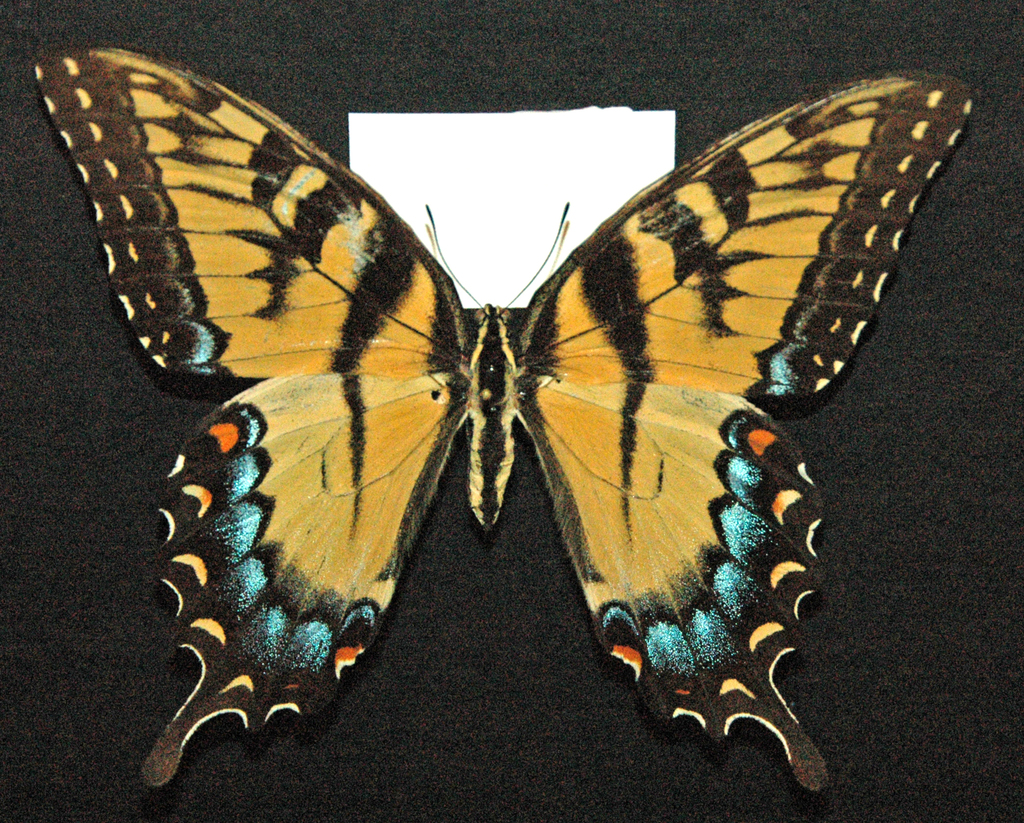Butterfly: (21, 12, 985, 807)
